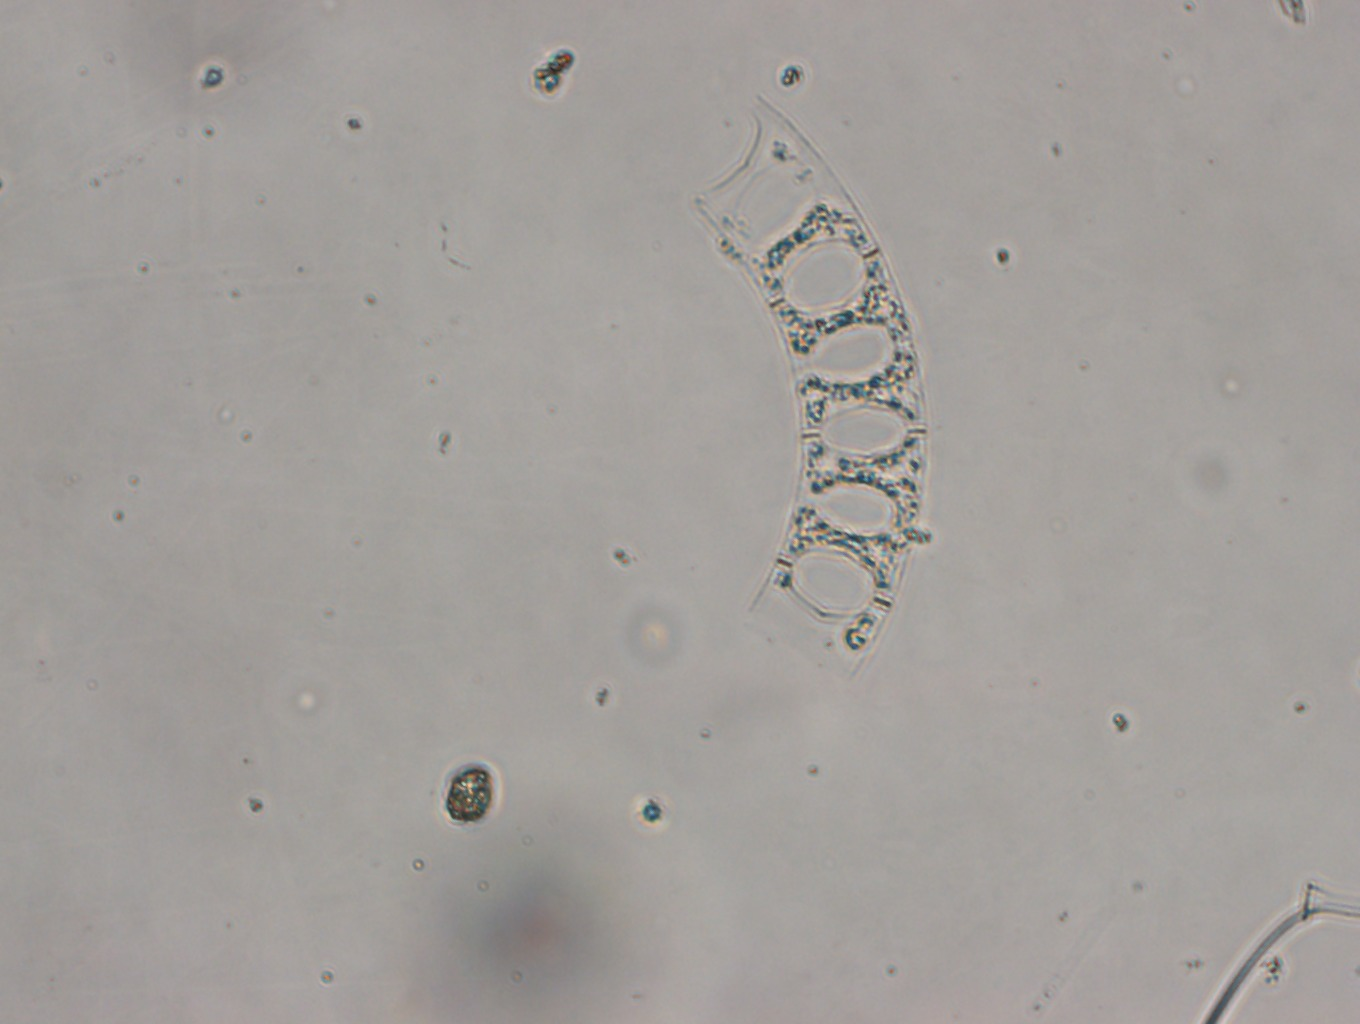eucampia: (689, 91, 930, 678)
